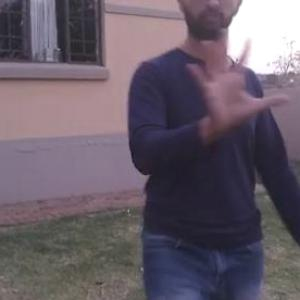follow_hand: (182, 23, 288, 131)
